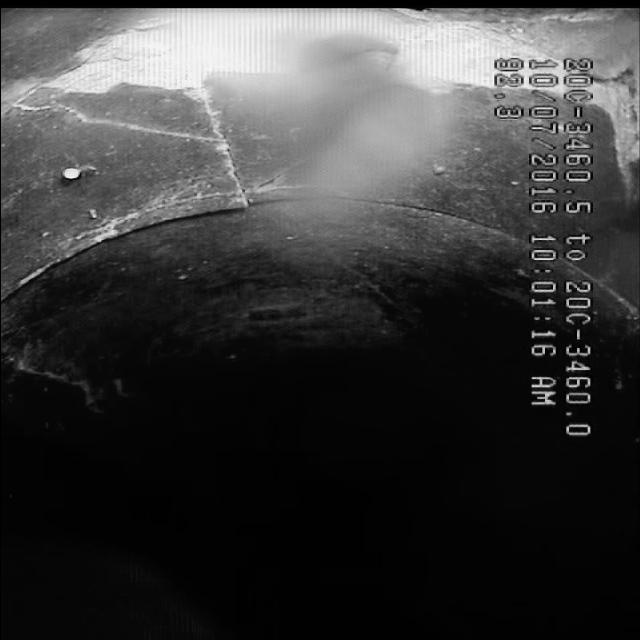Crack: (42, 65, 280, 262)
